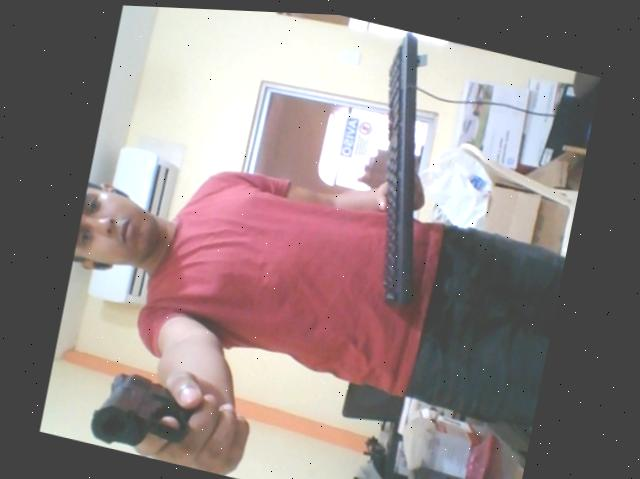pistol: (84, 357, 204, 461)
